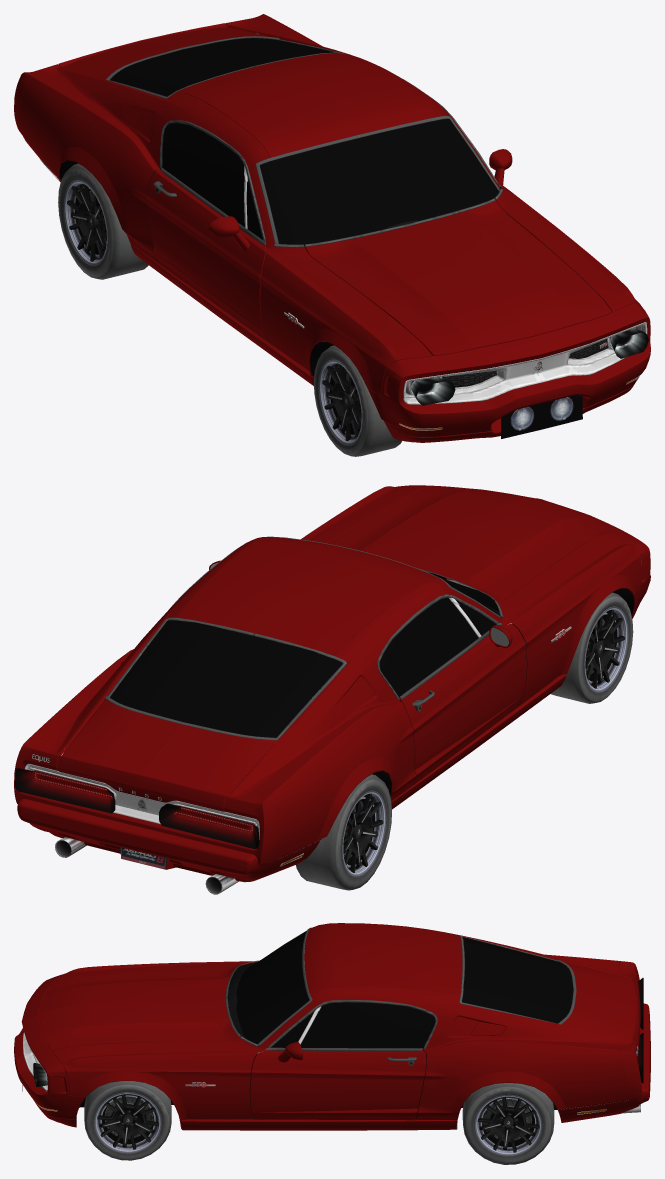
The picture shows the model from 3 angles, top to bottom: view 1: azimuth 30°, elevation 25°; view 2: azimuth 150°, elevation 25°; view 3: azimuth 270°, elevation 25°; orthographic projection. The views are drawn at different scales.
Visible parts, largest first — view 1: car_ford_equus:chassis_pivot_CarPaint_chassis_pivot_CarPaint, car_ford_equus:glasses_Glass_glasses_Glass_None, car_ford_equus:detach_door_R_50_pivot_CarPaint_detach_door_R, car_ford_equus:chassis_pivot_PlasticPaint_chassis_pivot_Plas, car_ford_equus:lights_position_front_and_back_pivot_Glows_li, car_ford_equus:WheelBR_pivot_Tyres_WheelBR_pivot_Tyres_None, car_ford_equus:WheelFR_pivot_Rims_WheelFR_pivot_Rims_None, car_ford_equus:WheelFR_pivot_Tyres_WheelFR_pivot_Tyres_None, car_ford_equus:WheelBR_pivot_Rims_WheelBR_pivot_Rims_None, car_ford_equus:chassis_pivot_Details_chassis_pivot_Details_N, car_ford_equus:detach_door_R_50_pivot_PlasticPaint_detach_do; view 2: car_ford_equus:chassis_pivot_CarPaint_chassis_pivot_CarPaint, car_ford_equus:glasses_Glass_glasses_Glass_None, car_ford_equus:detach_door_R_50_pivot_CarPaint_detach_door_R, car_ford_equus:lights_position_front_and_back_pivot_Glows_li, car_ford_equus:chassis_pivot_PlasticPaint_chassis_pivot_Plas, car_ford_equus:WheelBR_pivot_Tyres_WheelBR_pivot_Tyres_None, car_ford_equus:WheelFR_pivot_Rims_WheelFR_pivot_Rims_None, car_ford_equus:WheelBR_pivot_Rims_WheelBR_pivot_Rims_None, car_ford_equus:WheelFR_pivot_Tyres_WheelFR_pivot_Tyres_None, car_ford_equus:detach_door_R_50_pivot_PlasticPaint_detach_do, car_ford_equus:chassis_pivot_Exhaust_chassis_pivot_Exhaust_N, car_ford_equus:chassis_pivot_Details_chassis_pivot_Details_N; view 3: car_ford_equus:chassis_pivot_CarPaint_chassis_pivot_CarPaint, car_ford_equus:glasses_Glass_glasses_Glass_None, car_ford_equus:detach_door_L_50_pivot_CarPaint_detach_door_L, car_ford_equus:WheelFL_pivot_Rims_WheelFL_pivot_Rims_None, car_ford_equus:WheelBL_pivot_Rims_WheelBL_pivot_Rims_None, car_ford_equus:WheelBL_pivot_Tyres_WheelBL_pivot_Tyres_None, car_ford_equus:WheelFL_pivot_Tyres_WheelFL_pivot_Tyres_None, car_ford_equus:chassis_pivot_PlasticPaint_chassis_pivot_Plas, car_ford_equus:detach_door_L_50_pivot_PlasticPaint_detach_do, car_ford_equus:lights_position_front_and_back_pivot_Glows_li, car_ford_equus:lights_brakes_pivot_Glows_lights_brakes_pivot.
Boxes of the visible parts, <box> form: car_ford_equus:chassis_pivot_CarPaint_chassis_pivot_CarPaint: <box>14,14,650,442</box>; car_ford_equus:glasses_Glass_glasses_Glass_None: <box>110,38,498,245</box>; car_ford_equus:detach_door_R_50_pivot_CarPaint_detach_door_R: <box>145,170,265,339</box>; car_ford_equus:chassis_pivot_PlasticPaint_chassis_pivot_Plas: <box>106,33,647,404</box>; car_ford_equus:lights_position_front_and_back_pivot_Glows_li: <box>410,328,648,438</box>; car_ford_equus:WheelBR_pivot_Tyres_WheelBR_pivot_Tyres_None: <box>58,163,148,279</box>; car_ford_equus:WheelFR_pivot_Rims_WheelFR_pivot_Rims_None: <box>318,359,363,445</box>; car_ford_equus:WheelFR_pivot_Tyres_WheelFR_pivot_Tyres_None: <box>314,345,401,456</box>; car_ford_equus:WheelBR_pivot_Rims_WheelBR_pivot_Rims_None: <box>64,179,107,265</box>; car_ford_equus:chassis_pivot_Details_chassis_pivot_Details_N: <box>59,160,637,437</box>; car_ford_equus:detach_door_R_50_pivot_PlasticPaint_detach_do: <box>153,120,266,246</box>; car_ford_equus:chassis_pivot_CarPaint_chassis_pivot_CarPaint: <box>14,485,650,882</box>; car_ford_equus:glasses_Glass_glasses_Glass_None: <box>110,585,498,737</box>; car_ford_equus:detach_door_R_50_pivot_CarPaint_detach_door_R: <box>399,623,526,784</box>; car_ford_equus:lights_position_front_and_back_pivot_Glows_li: <box>15,768,258,848</box>; car_ford_equus:chassis_pivot_PlasticPaint_chassis_pivot_Plas: <box>24,536,502,839</box>; car_ford_equus:WheelBR_pivot_Tyres_WheelBR_pivot_Tyres_None: <box>296,774,391,890</box>; car_ford_equus:WheelFR_pivot_Rims_WheelFR_pivot_Rims_None: <box>584,606,628,692</box>; car_ford_equus:WheelBR_pivot_Rims_WheelBR_pivot_Rims_None: <box>342,790,386,876</box>; car_ford_equus:WheelFR_pivot_Tyres_WheelFR_pivot_Tyres_None: <box>551,592,633,703</box>; car_ford_equus:detach_door_R_50_pivot_PlasticPaint_detach_do: <box>377,594,502,711</box>; car_ford_equus:chassis_pivot_Exhaust_chassis_pivot_Exhaust_N: <box>55,600,641,894</box>; car_ford_equus:chassis_pivot_Details_chassis_pivot_Details_N: <box>32,572,633,865</box>; car_ford_equus:chassis_pivot_CarPaint_chassis_pivot_CarPaint: <box>14,923,650,1130</box>; car_ford_equus:glasses_Glass_glasses_Glass_None: <box>236,931,573,1048</box>; car_ford_equus:detach_door_L_50_pivot_CarPaint_detach_door_L: <box>250,1042,426,1120</box>; car_ford_equus:WheelFL_pivot_Rims_WheelFL_pivot_Rims_None: <box>94,1092,161,1153</box>; car_ford_equus:WheelBL_pivot_Rims_WheelBL_pivot_Rims_None: <box>474,1094,542,1155</box>; car_ford_equus:WheelBL_pivot_Tyres_WheelBL_pivot_Tyres_None: <box>462,1083,554,1164</box>; car_ford_equus:WheelFL_pivot_Tyres_WheelFL_pivot_Tyres_None: <box>84,1081,171,1160</box>; car_ford_equus:chassis_pivot_PlasticPaint_chassis_pivot_Plas: <box>23,927,576,1091</box>; car_ford_equus:detach_door_L_50_pivot_PlasticPaint_detach_do: <box>265,1000,437,1065</box>; car_ford_equus:lights_position_front_and_back_pivot_Glows_li: <box>22,978,643,1091</box>; car_ford_equus:lights_brakes_pivot_Glows_lights_brakes_pivot: <box>637,978,642,1083</box>.
Size of the model in its own units: 2.06 by 1.39 by 4.93.
Materials: 12 (8 with a texture image).
